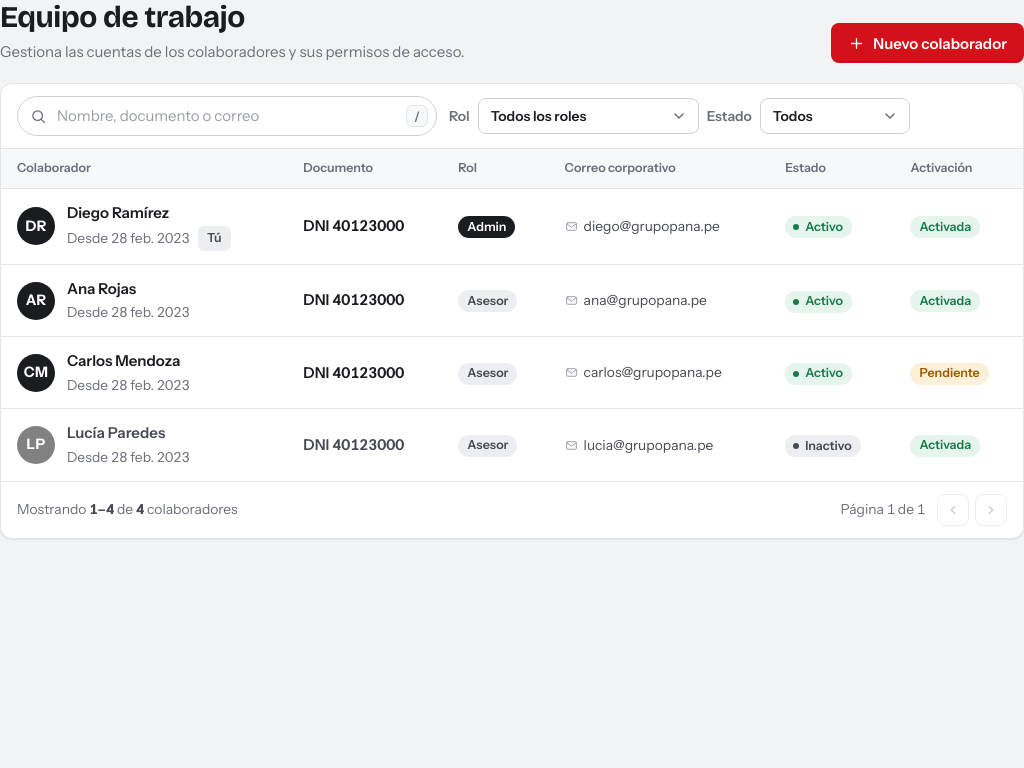
StaffPage › editing › starts with the person's data and nothing to save
Click the button "Ana Rojas" at (102, 289), box [67, 278, 136, 300]
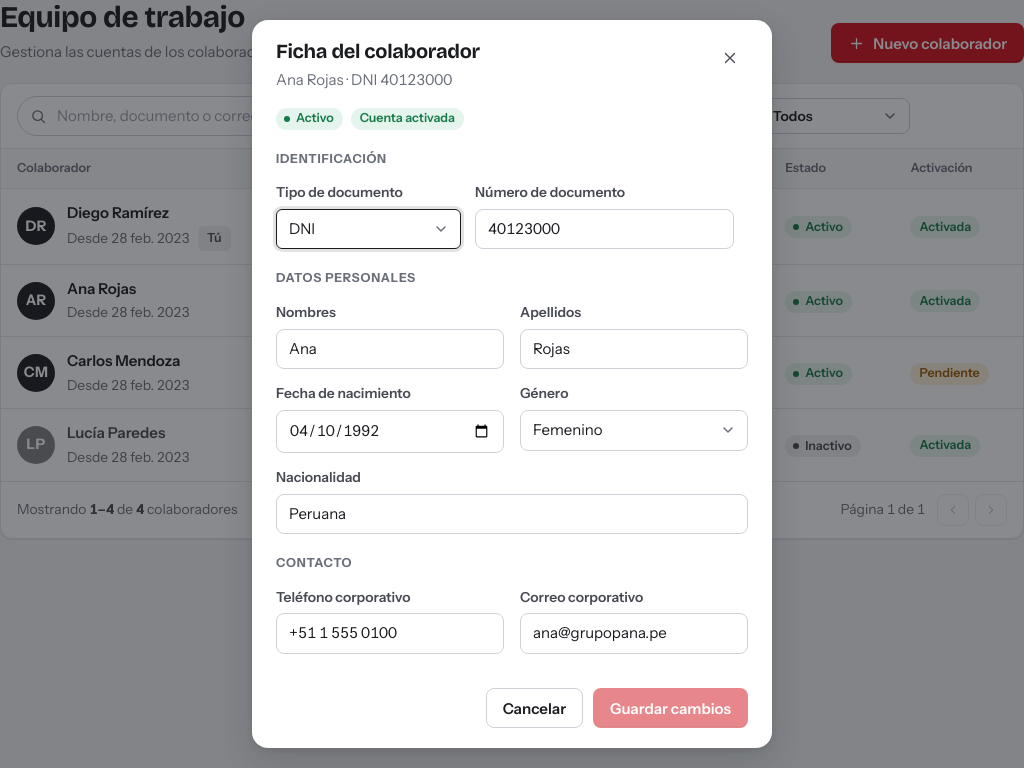
Expected: the field labelled "Nombres" holds "Ana", [276, 329, 504, 370]
Expected: the field labelled "Correo corporativo" holds "ana@grupopana.pe", [520, 614, 748, 654]
Expected: the button "Guardar cambios" is disabled, [593, 688, 748, 728]
